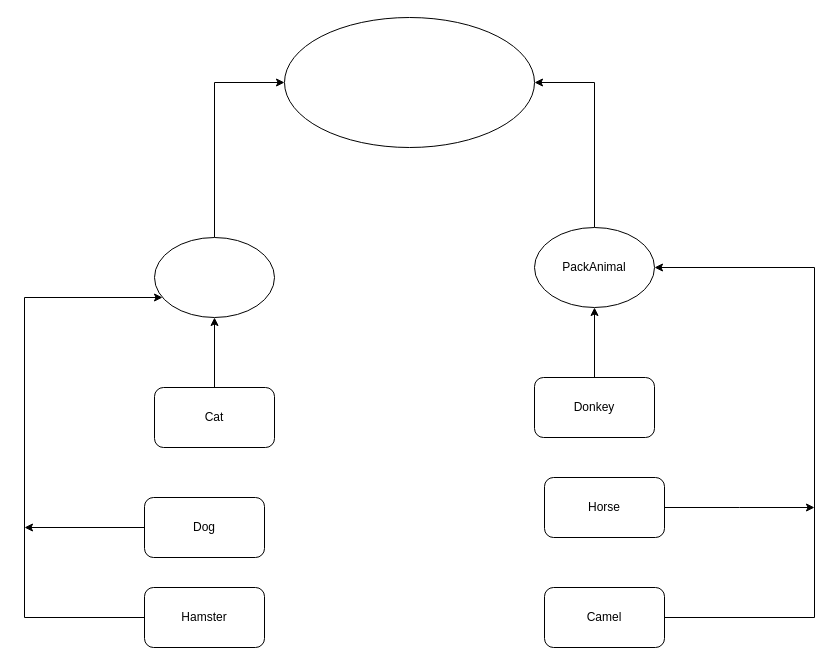
The diagram is 840 pixels wide and 665 high, and some of its shapes have lost their labels. Here are the shapes that lost their labels. From the top down, the centre of each, then its label:
At point (409, 82): "Animal int id ; String name ; String type ; List<String> commands ;".
At point (214, 277): "Pet".
